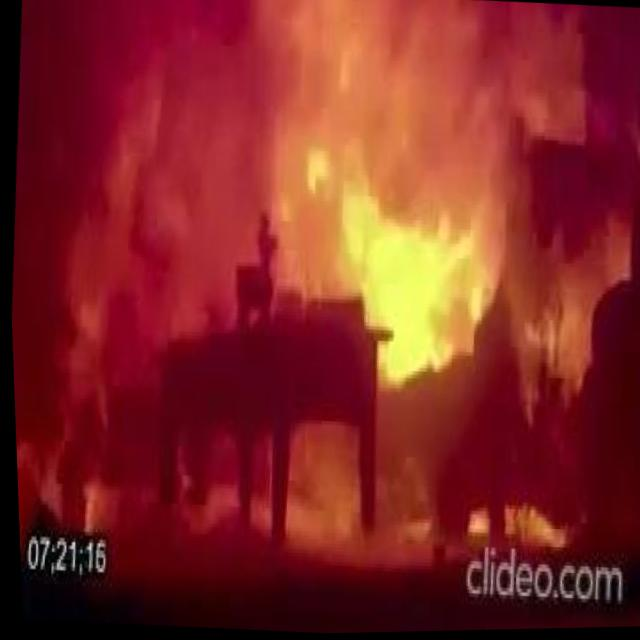fire: (36, 61, 182, 533), (269, 0, 484, 295), (465, 6, 640, 190), (368, 192, 510, 405), (507, 212, 604, 405), (363, 402, 443, 565), (278, 420, 357, 558), (169, 435, 240, 544), (498, 499, 587, 556), (242, 436, 270, 538), (459, 501, 489, 542)
